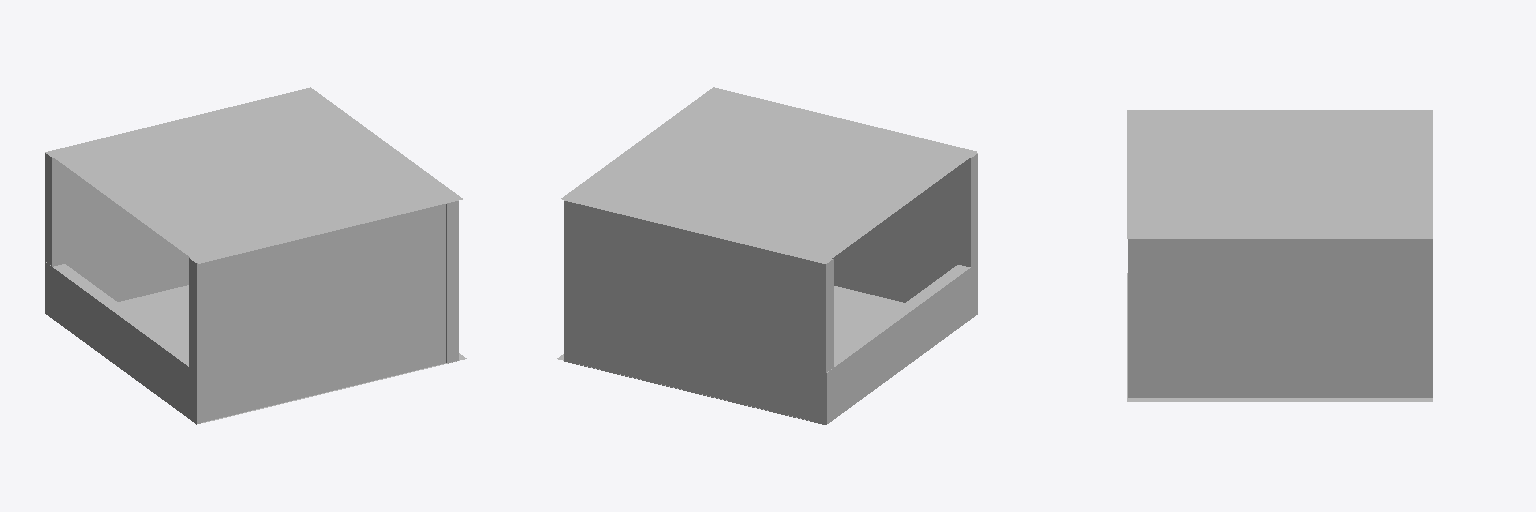
The model's file is walls_tile.obj.
The picture shows the model from 3 angles: view 1: azimuth 30°, elevation 25°; view 2: azimuth 150°, elevation 25°; view 3: azimuth 270°, elevation 25°; orthographic projection.
Parts seen in each view (by area): view 1: Cube.002, Plane.001, Cube.003, Cube, Plane, Cube.001; view 2: Cube.003, Plane.001, Cube.002, Cube, Plane; view 3: Cube.001, Plane.001, Cube.003, Plane.
Boxes of the visible parts, x1=… form: Cube.002: x1=189, y1=204, x2=445, y2=424; Plane.001: x1=47, y1=87, x2=462, y2=263; Cube.003: x1=45, y1=152, x2=189, y2=301; Cube: x1=45, y1=262, x2=188, y2=418; Plane: x1=118, y1=285, x2=466, y2=422; Cube.001: x1=446, y1=201, x2=458, y2=363; Cube.003: x1=564, y1=200, x2=833, y2=424; Plane.001: x1=561, y1=87, x2=976, y2=263; Cube.002: x1=832, y1=153, x2=977, y2=318; Cube: x1=826, y1=265, x2=970, y2=424; Plane: x1=557, y1=286, x2=904, y2=420; Cube.001: x1=1128, y1=239, x2=1417, y2=397; Plane.001: x1=1127, y1=110, x2=1432, y2=238; Cube.003: x1=1418, y1=239, x2=1432, y2=397; Plane: x1=1127, y1=273, x2=1432, y2=401.
Size of the model in its own units: 16.45 by 9.41 by 16.18.